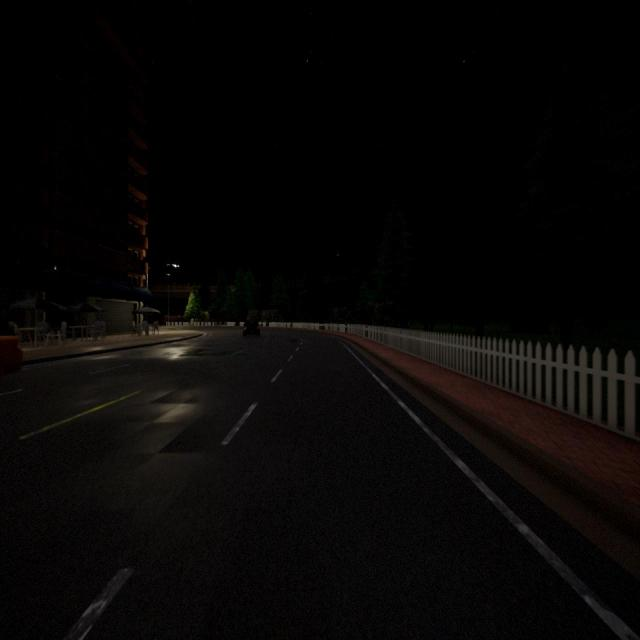Vehicle: (0, 321, 24, 375), (243, 319, 260, 337)
